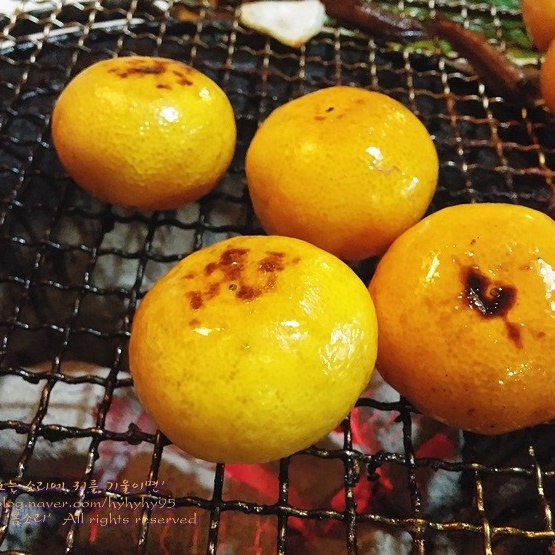mandarin: (129, 236, 376, 467), (370, 203, 555, 441), (245, 84, 439, 259), (53, 54, 238, 212)
